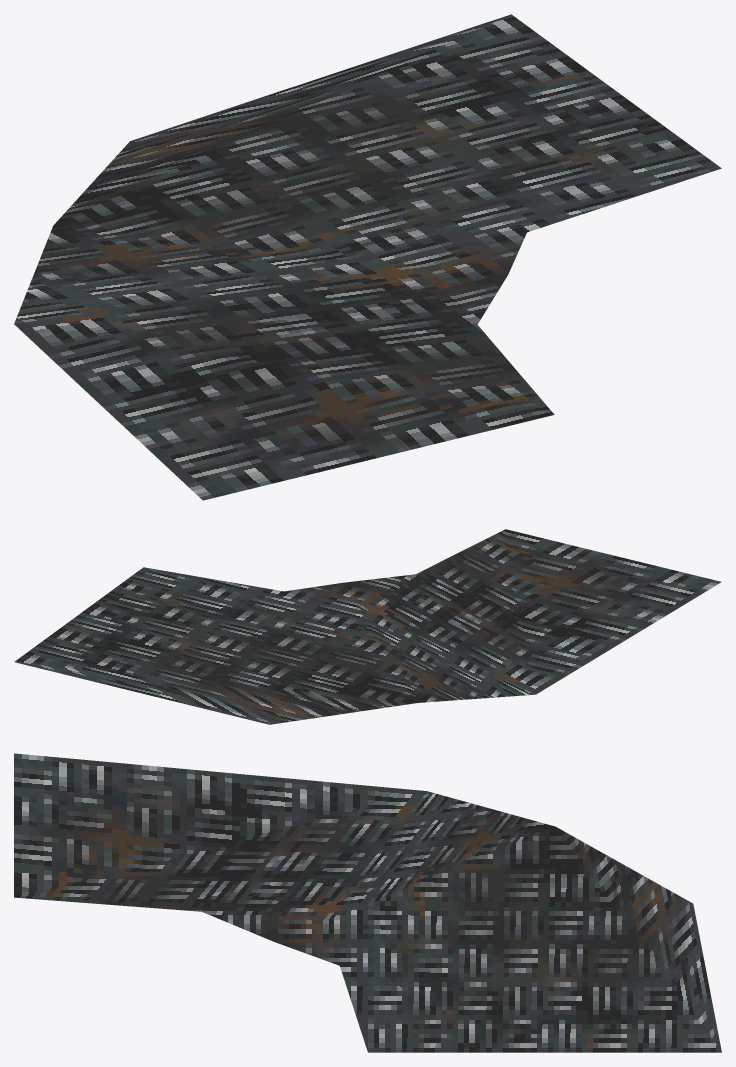
Rendered from Ministerium_BodenRundung_2501.glb.
The picture shows the model from 3 angles, top to bottom: view 1: azimuth 30°, elevation 25°; view 2: azimuth 150°, elevation 25°; view 3: azimuth 270°, elevation 25°; orthographic projection. The views are drawn at different scales.
Visible parts, largest first — view 1: polySurfaceShape1018; view 2: polySurfaceShape1018; view 3: polySurfaceShape1018.
Part boxes in pixels (left/top/right/bottom): polySurfaceShape1018: left=14, top=14, right=721, bottom=500; polySurfaceShape1018: left=14, top=529, right=721, bottom=724; polySurfaceShape1018: left=14, top=753, right=721, bottom=1052.
Bounding box in the file's own units: 0.5 × 0.0113 × 0.5.
Materials: 1 (1 with a texture image).
